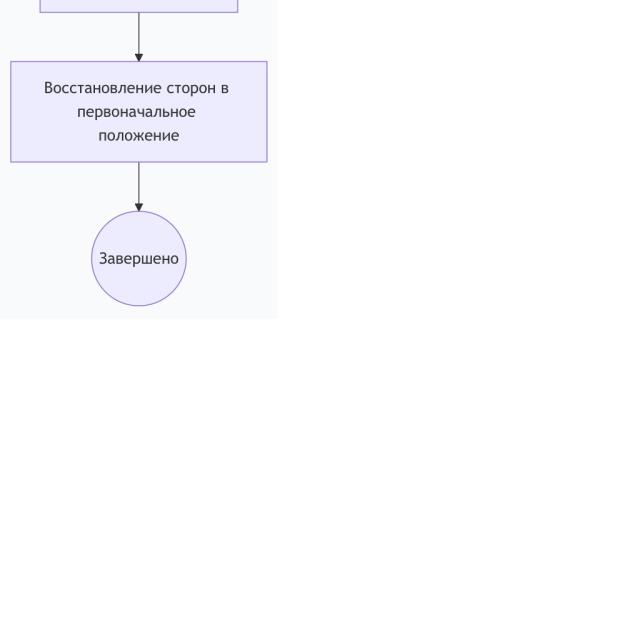arrow: (124, 160, 154, 212), (129, 11, 148, 63)
circle: (85, 208, 190, 309)
rectangle: (10, 60, 269, 167)
